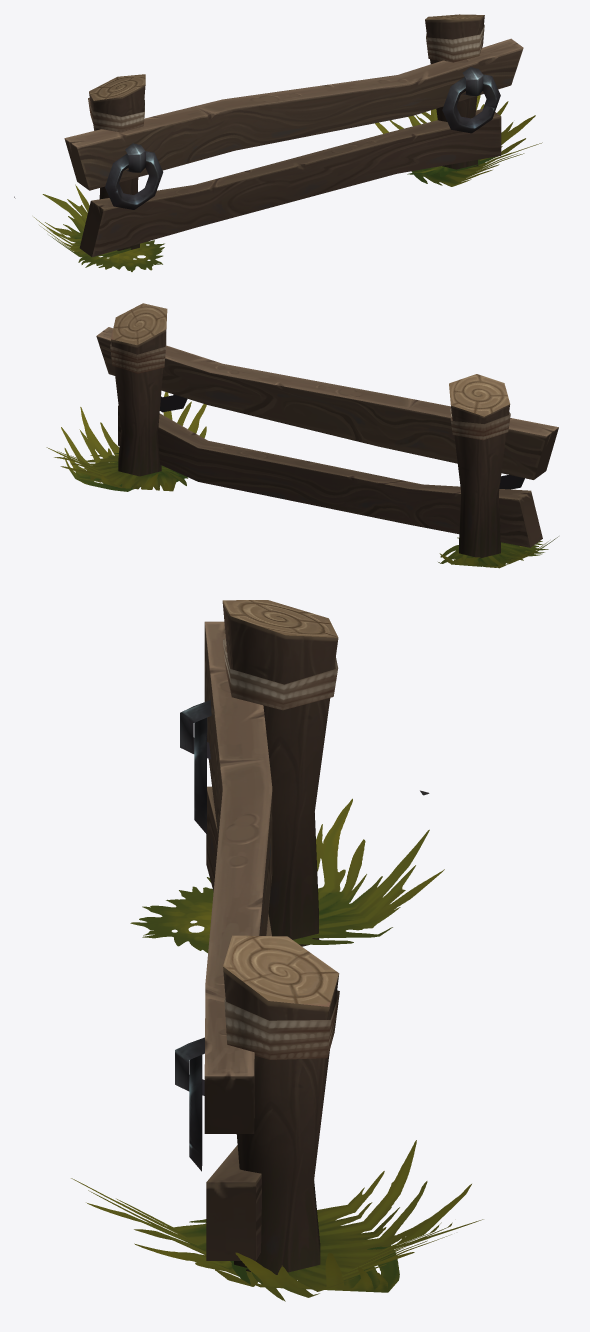
The model's file is fence_03.fbx.
3 views of the same model, one above another, from view 1: azimuth 30°, elevation 25°; view 2: azimuth 150°, elevation 25°; view 3: azimuth 270°, elevation 25° (orthographic). The views are drawn at different scales.
Parts seen in each view (by area): view 1: fence_03, fence_03_grass; view 2: fence_03, fence_03_grass; view 3: fence_03, fence_03_grass.
Boxes of the visible parts, bbox=[...] form: fence_03: bbox=[64, 14, 523, 256]; fence_03_grass: bbox=[14, 95, 542, 271]; fence_03: bbox=[96, 303, 558, 558]; fence_03_grass: bbox=[46, 392, 558, 568]; fence_03: bbox=[175, 600, 339, 1274]; fence_03_grass: bbox=[71, 790, 483, 1301].
Bounding box in the file's own units: 278 × 84.92 × 119.
